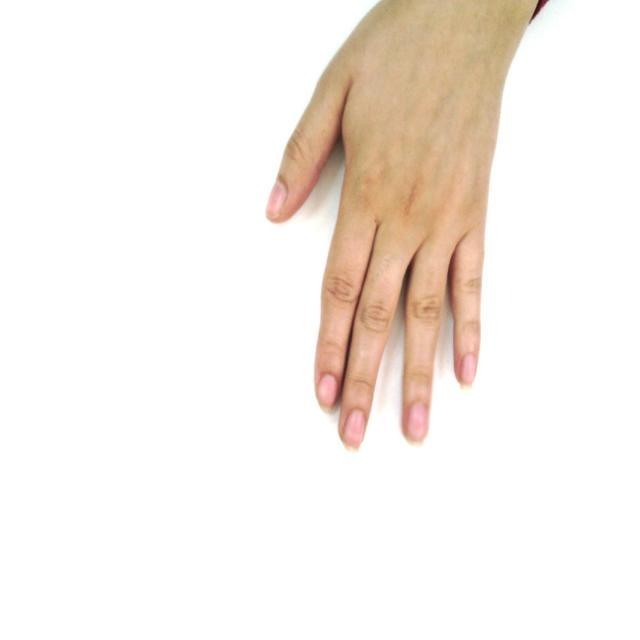Fingernail: (344, 411, 365, 452), (407, 402, 427, 444), (266, 183, 286, 218), (319, 375, 335, 411), (460, 354, 476, 388)
